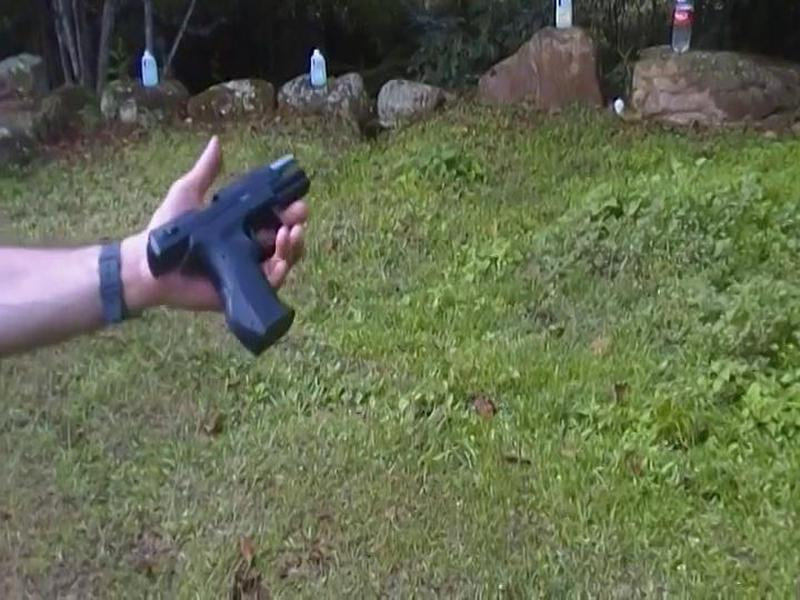Pistola: (137, 144, 327, 355)
